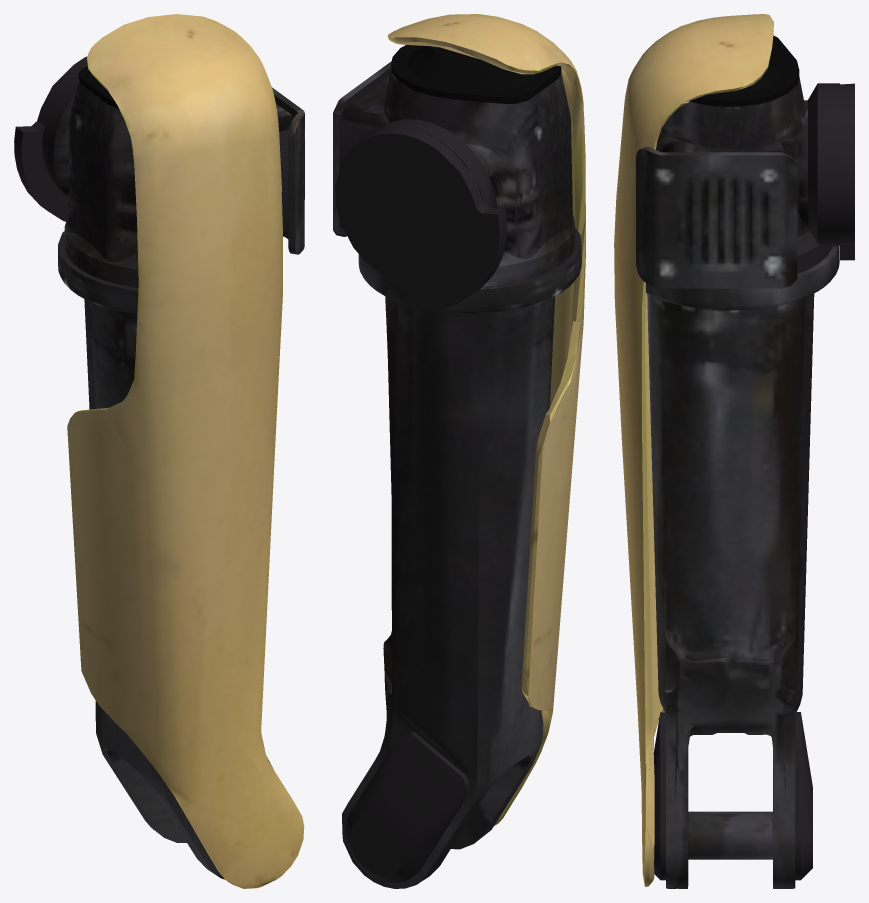
Rendered from fr_uleg.dae.
The picture shows the model from 3 angles, left to right: view 1: azimuth 30°, elevation 25°; view 2: azimuth 150°, elevation 25°; view 3: azimuth 270°, elevation 25°; orthographic projection. The views are drawn at different scales.
Parts seen in each view (by area): view 1: Fl Uleg.008, Fl Uleg.010, Fl Uleg.009, Fl Uleg.011, Fl Uleg.012, leg_cap; view 2: Fl Uleg.009, Fl Uleg.008, Fl Uleg.010, Fl Uleg.011, Fl Uleg.013, leg_cap, Fl Uleg.012; view 3: Fl Uleg.009, Fl Uleg.008, Fl Uleg.012, Fl Uleg.010, leg_cap, Fl Uleg.011, Fl Uleg.013, Fl Uleg.014.
Boxes of the visible parts, x1=… form: Fl Uleg.008: x1=67, y1=14, x2=304, y2=888; Fl Uleg.010: x1=42, y1=66, x2=292, y2=287; Fl Uleg.009: x1=58, y1=231, x2=224, y2=879; Fl Uleg.011: x1=14, y1=56, x2=87, y2=221; Fl Uleg.012: x1=272, y1=87, x2=304, y2=254; leg_cap: x1=78, y1=66, x2=118, y2=108; Fl Uleg.009: x1=342, y1=227, x2=581, y2=888; Fl Uleg.008: x1=387, y1=14, x2=585, y2=825; Fl Uleg.010: x1=339, y1=68, x2=574, y2=286; Fl Uleg.011: x1=335, y1=127, x2=506, y2=310; Fl Uleg.013: x1=345, y1=731, x2=469, y2=883; leg_cap: x1=391, y1=45, x2=561, y2=103; Fl Uleg.012: x1=333, y1=61, x2=391, y2=236; Fl Uleg.009: x1=646, y1=245, x2=839, y2=888; Fl Uleg.008: x1=614, y1=14, x2=773, y2=886; Fl Uleg.012: x1=636, y1=147, x2=797, y2=288; Fl Uleg.010: x1=656, y1=77, x2=839, y2=273; leg_cap: x1=690, y1=35, x2=799, y2=106; Fl Uleg.011: x1=840, y1=83, x2=854, y2=260; Fl Uleg.013: x1=795, y1=712, x2=812, y2=880; Fl Uleg.014: x1=653, y1=712, x2=665, y2=880.
Size of the model in its own units: 0.101 by 0.108 by 0.4112.
Materials: 3 (2 with a texture image).
